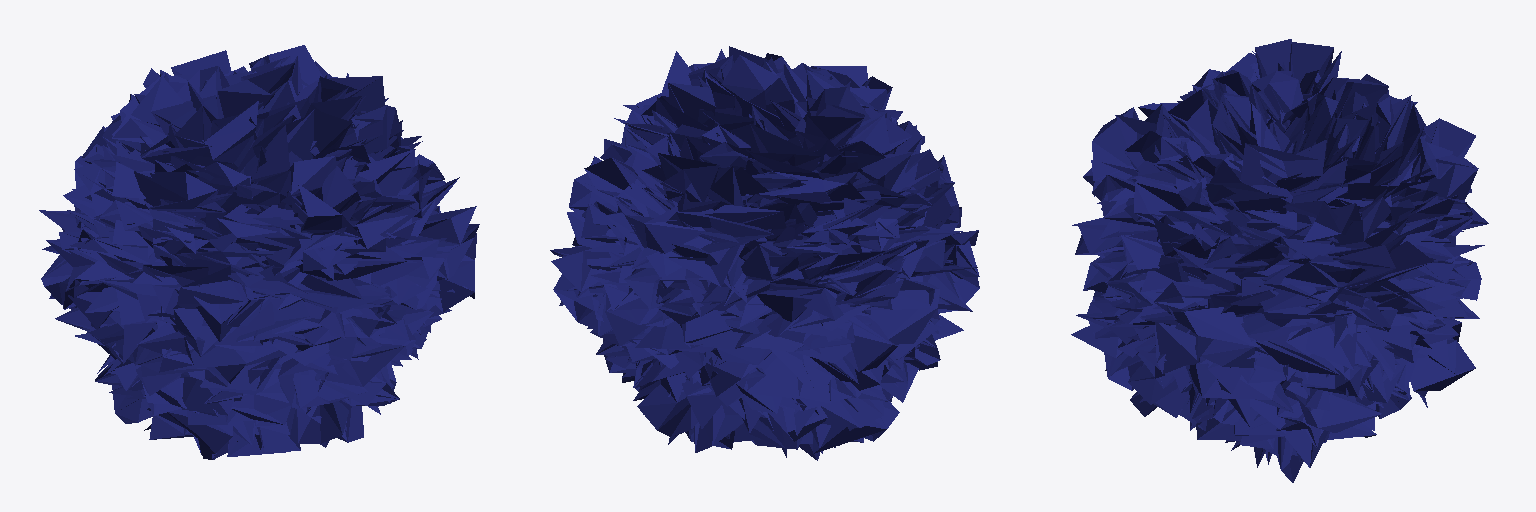
The model's file is FlyingObjectBlue.obj.
3 renders of one model, left to right at view 1: azimuth 30°, elevation 25°; view 2: azimuth 150°, elevation 25°; view 3: azimuth 270°, elevation 25°, orthographic.
Visible parts, largest first — view 1: Platonic; view 2: Platonic; view 3: Platonic.
Boxes of the visible parts, <box> form: Platonic: <box>39,45,479,459</box>; Platonic: <box>550,46,979,460</box>; Platonic: <box>1071,39,1488,482</box>.
Size of the model in its own units: 247 by 248 by 249.